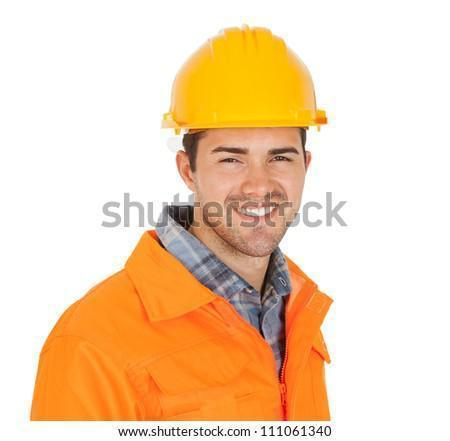helmet: (161, 23, 328, 130)
